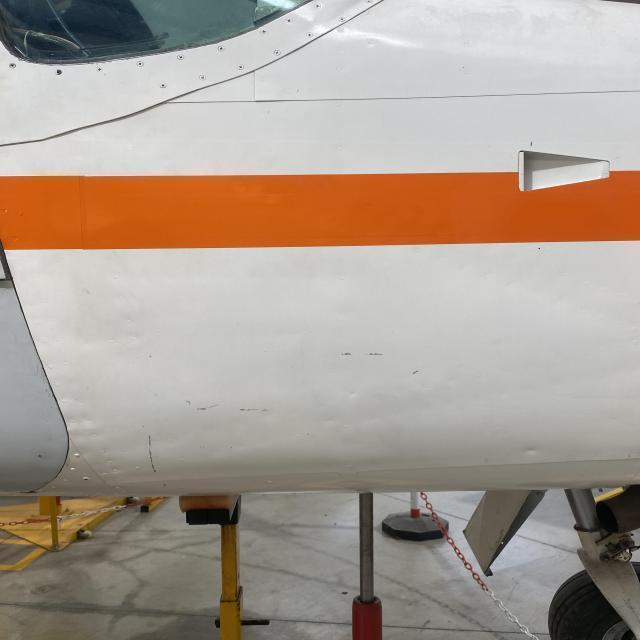Dent: (514, 442, 548, 459), (314, 415, 341, 428), (346, 387, 362, 400)
